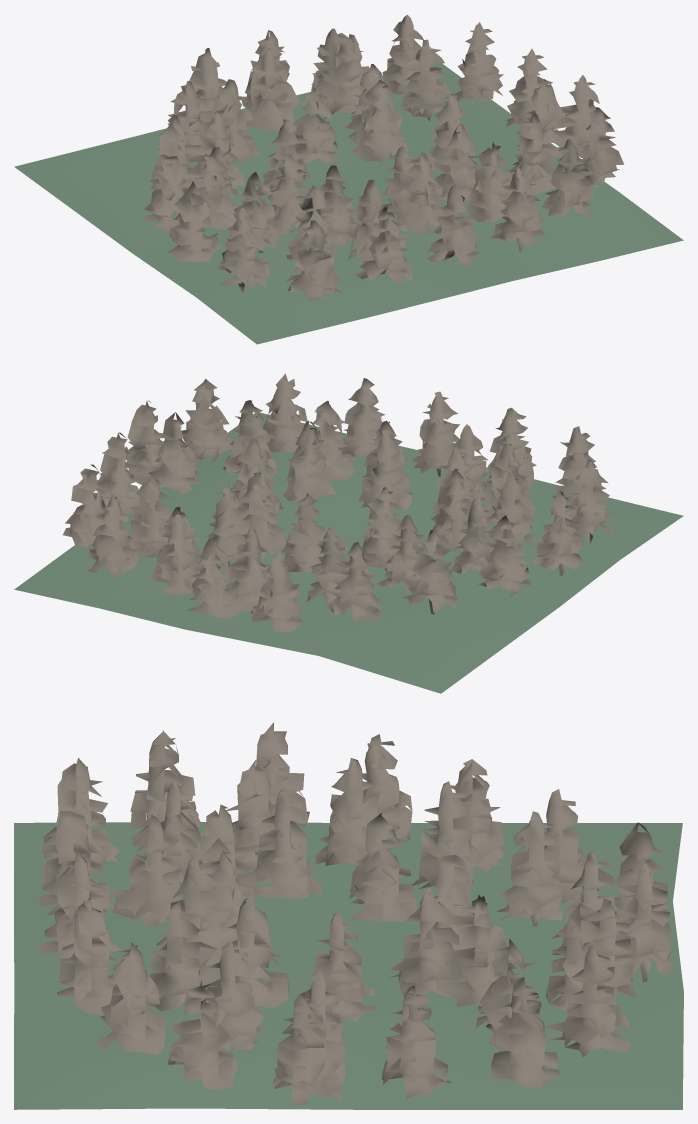
File: pine_forest.glb
3 renders of one model, top to bottom at view 1: azimuth 30°, elevation 25°; view 2: azimuth 150°, elevation 25°; view 3: azimuth 270°, elevation 25°, orthographic. The views are drawn at different scales.
Parts seen in each view (by area): view 1: world; view 2: world; view 3: world.
Part boxes in pixels (bbox=[...]): world: bbox=[14, 14, 683, 344]; world: bbox=[14, 373, 683, 693]; world: bbox=[14, 722, 683, 1109].
Size of the model in its own units: 40 by 7.49 by 37.04.
